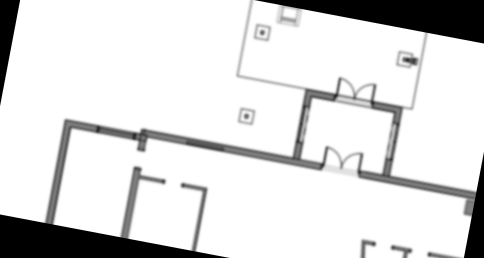double door: (333, 74, 378, 105), (321, 143, 366, 173)
wall: (356, 168, 477, 202), (42, 116, 77, 225), (221, 142, 325, 175), (119, 164, 144, 239), (189, 188, 210, 252), (135, 127, 189, 148), (58, 115, 101, 138), (369, 98, 405, 118), (302, 86, 337, 103), (288, 139, 307, 163), (352, 238, 373, 258), (136, 173, 164, 186), (426, 249, 464, 258), (353, 236, 378, 249), (181, 181, 208, 193), (379, 158, 397, 176), (461, 196, 475, 218), (390, 244, 415, 255)
window: (182, 135, 229, 156), (96, 122, 138, 145), (294, 103, 316, 145), (384, 120, 404, 162)
